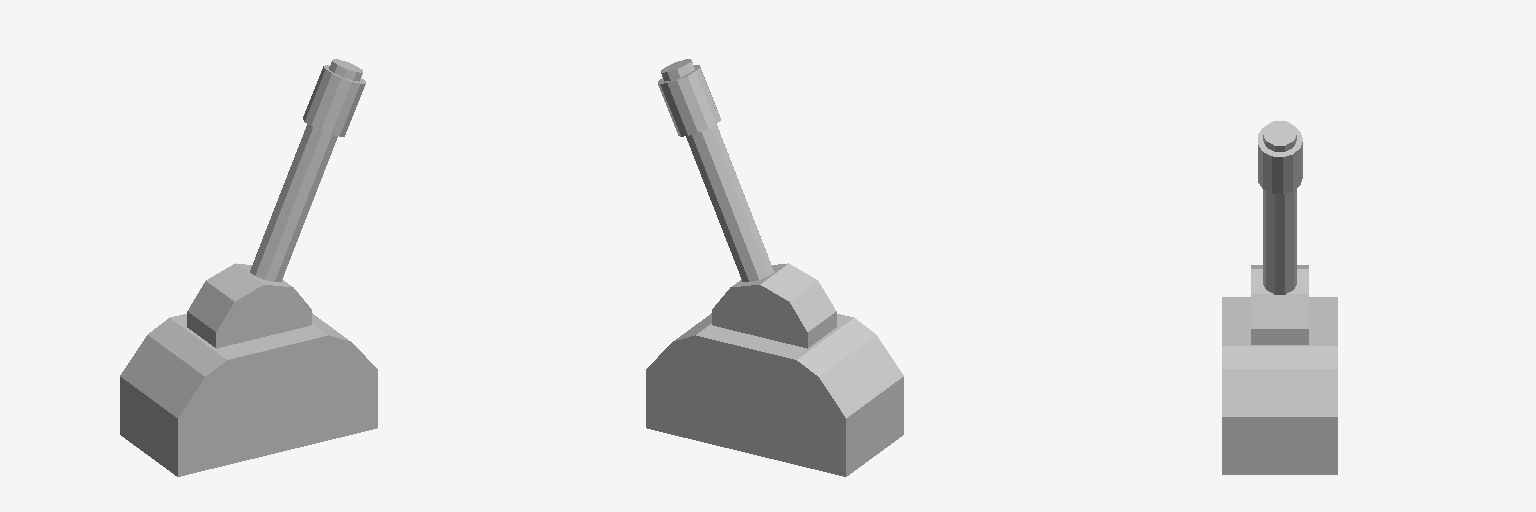
Rendered from palanca.obj.
3 views of the same model, side by side, from view 1: azimuth 30°, elevation 25°; view 2: azimuth 150°, elevation 25°; view 3: azimuth 270°, elevation 25° (orthographic).
Parts seen in each view (by area): view 1: Palanca_1.001_Cylinder.002; view 2: Palanca_1.001_Cylinder.002; view 3: Palanca_1.001_Cylinder.002.
Boxes of the visible parts, box(x1,y1,x2,y2) form: Palanca_1.001_Cylinder.002: box(120, 59, 377, 476); Palanca_1.001_Cylinder.002: box(646, 59, 903, 476); Palanca_1.001_Cylinder.002: box(1222, 121, 1337, 474).
Size of the model in its own units: 0.9703 by 1.5 by 0.4542.